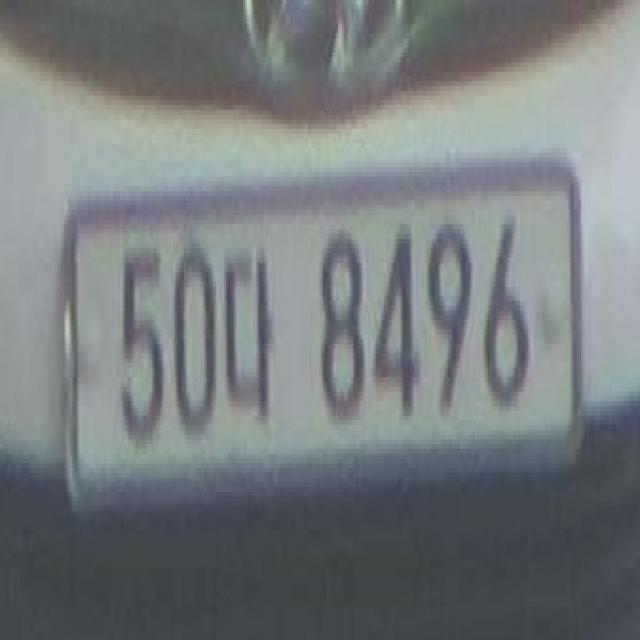0: (172, 230, 218, 444)
4: (374, 224, 421, 423)
5: (114, 242, 165, 444)
6: (482, 214, 536, 416)
8: (317, 224, 368, 436)
9: (426, 225, 474, 420)
da: (224, 238, 280, 447)
license_plate: (45, 147, 591, 502)
